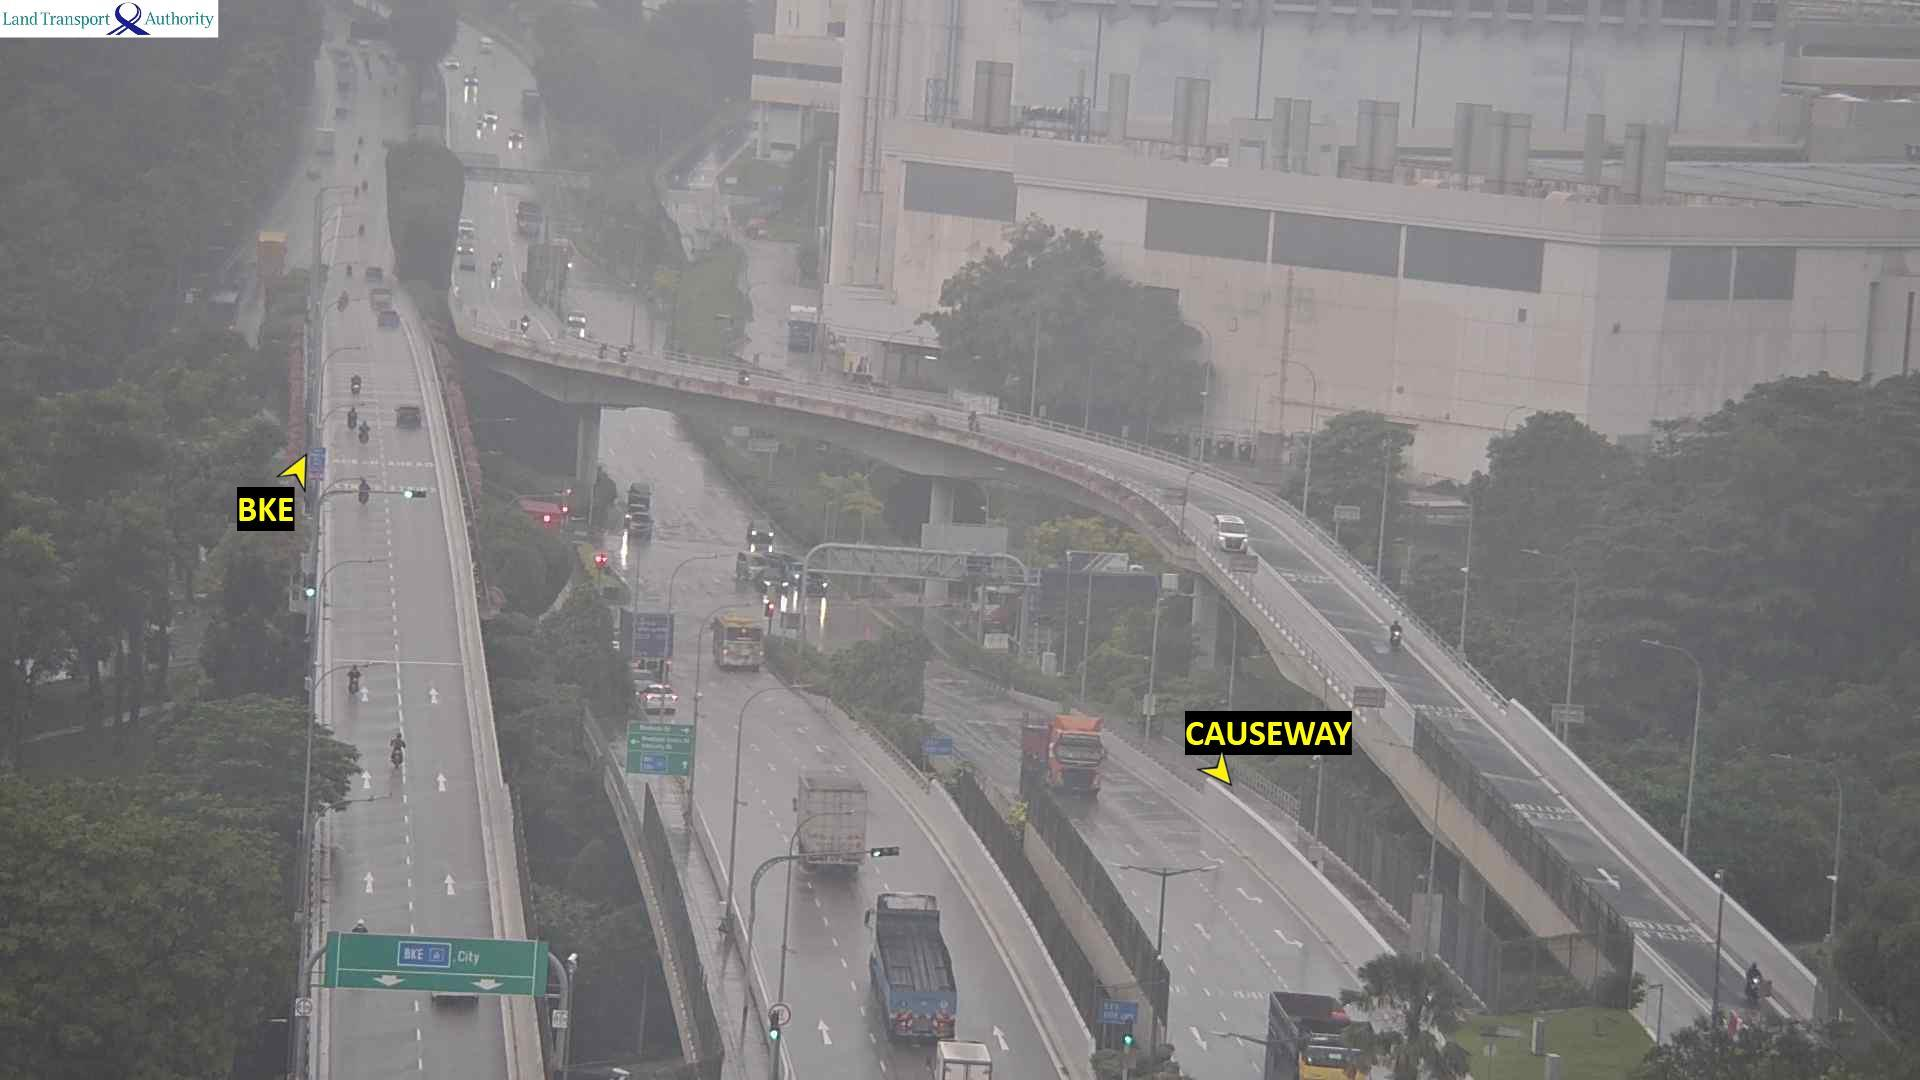vehicle-causeway-johor: (1039, 715, 1109, 790), (1278, 994, 1366, 1051), (1213, 516, 1247, 553), (737, 551, 766, 578), (758, 568, 787, 591), (749, 520, 775, 542), (1390, 620, 1402, 650), (1747, 961, 1756, 994), (458, 251, 471, 270), (459, 245, 469, 261), (521, 314, 529, 330), (618, 347, 626, 361), (497, 255, 505, 266), (491, 261, 496, 273)
vehicle-causeway-singapore: (865, 899, 955, 1036), (796, 812, 872, 865), (930, 1042, 993, 1080), (713, 611, 770, 650), (717, 650, 765, 670), (398, 406, 423, 429), (369, 289, 393, 309), (642, 684, 667, 703), (348, 665, 363, 694), (377, 310, 398, 327), (393, 740, 404, 771), (355, 410, 369, 431), (357, 377, 373, 393), (359, 480, 369, 502), (367, 268, 382, 282), (353, 918, 369, 928)
